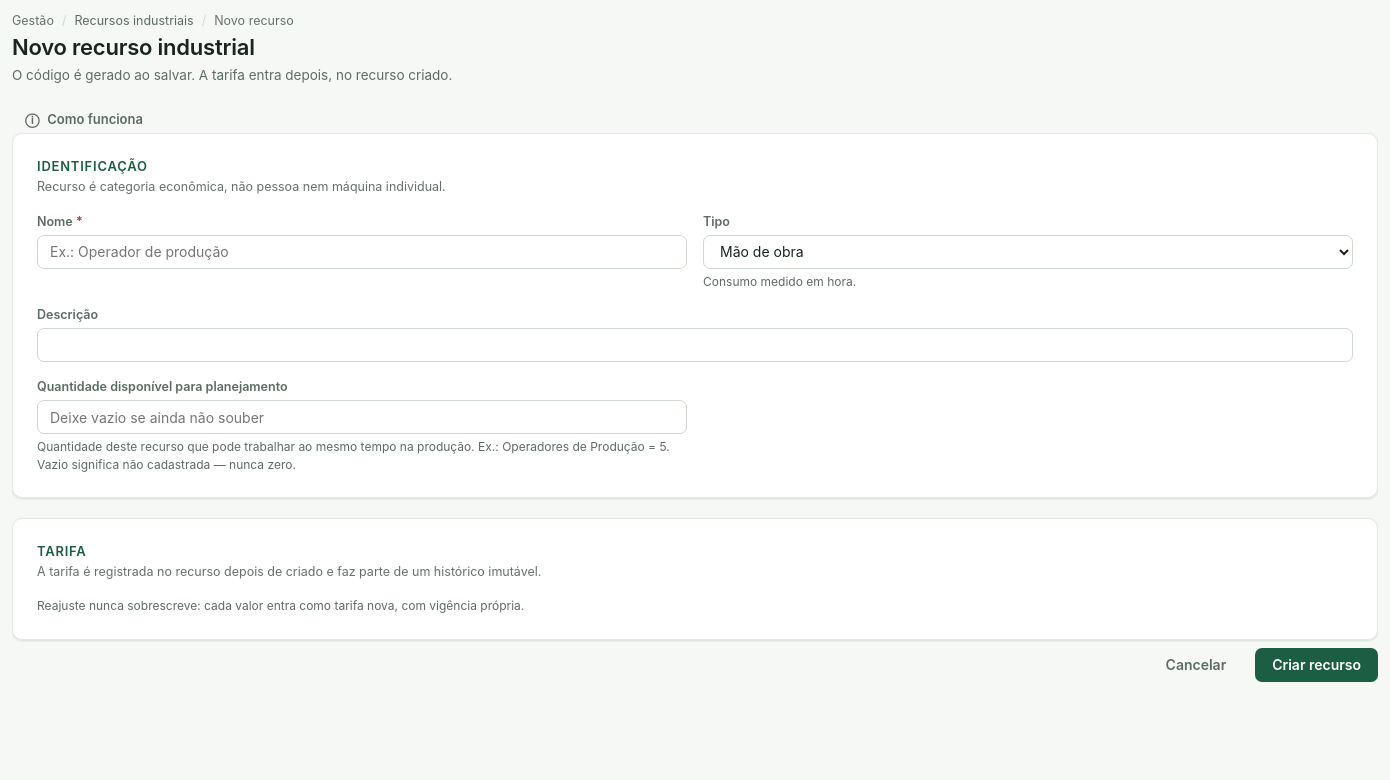
Test: Recurso industrial — cadastro direto › potência só é pedida para equipamento
Check: the field labelled "Potência" is not shown
Select "Equipamento" in the dropdown labelled "Tipo" at (1028, 252), box [703,235,1353,269]
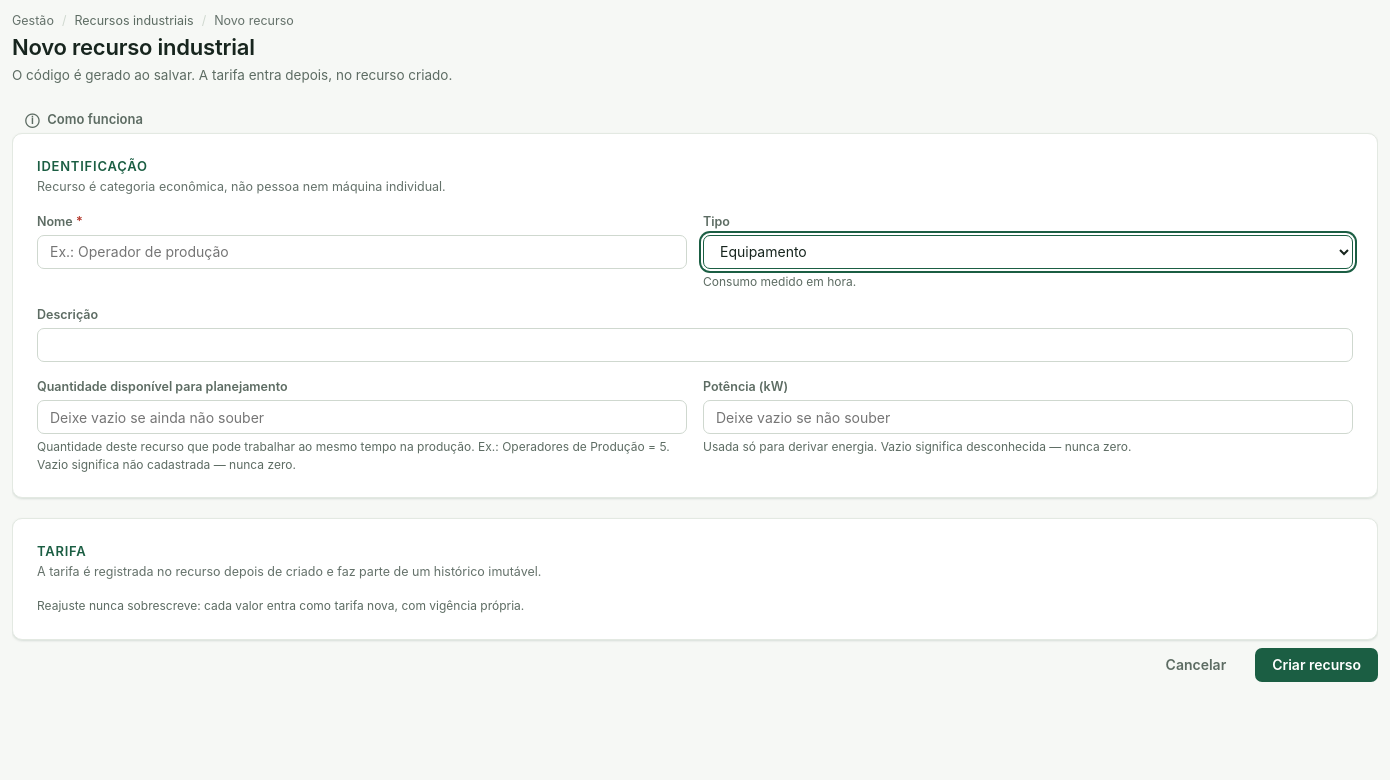
Check: the field labelled "Potência (kW)" is shown, box [703,400,1353,434]
